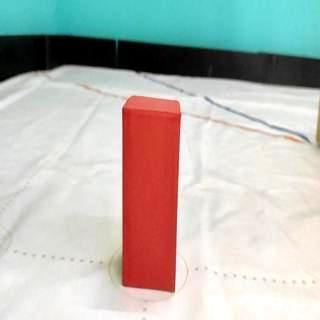redbox: (121, 94, 180, 294)
